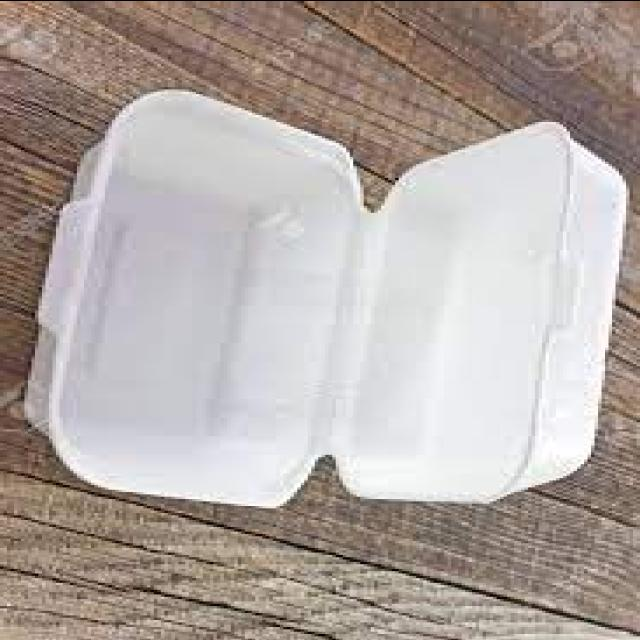styrofoam: (27, 91, 625, 505)
